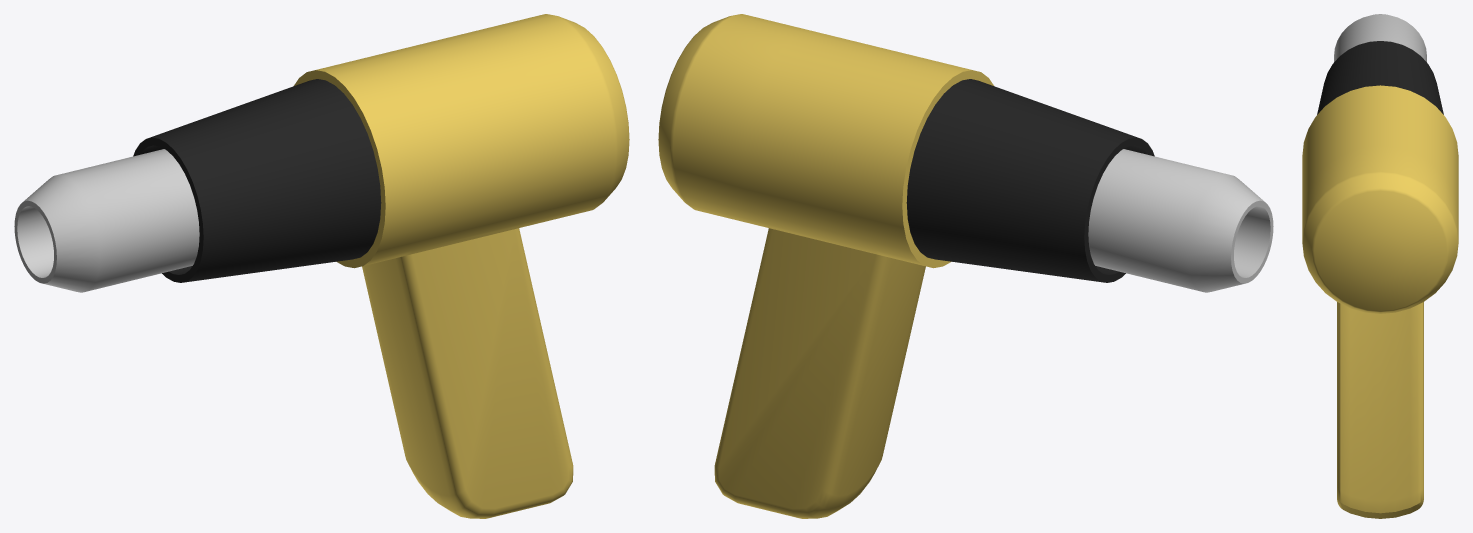
The model's file is heatgun.fbx.
The picture shows the model from 3 angles, left to right: view 1: azimuth 30°, elevation 25°; view 2: azimuth 150°, elevation 25°; view 3: azimuth 270°, elevation 25°; orthographic projection. The views are drawn at different scales.
Visible parts, largest first — view 1: Circle.001; view 2: Circle.001; view 3: Circle.001.
Boxes of the visible parts, x1,y1,x2,y2 form: Circle.001: (14,14,629,518); Circle.001: (658,14,1273,518); Circle.001: (1302,14,1458,518).
Bounding box in the file's own units: 1081 × 852 × 336.
